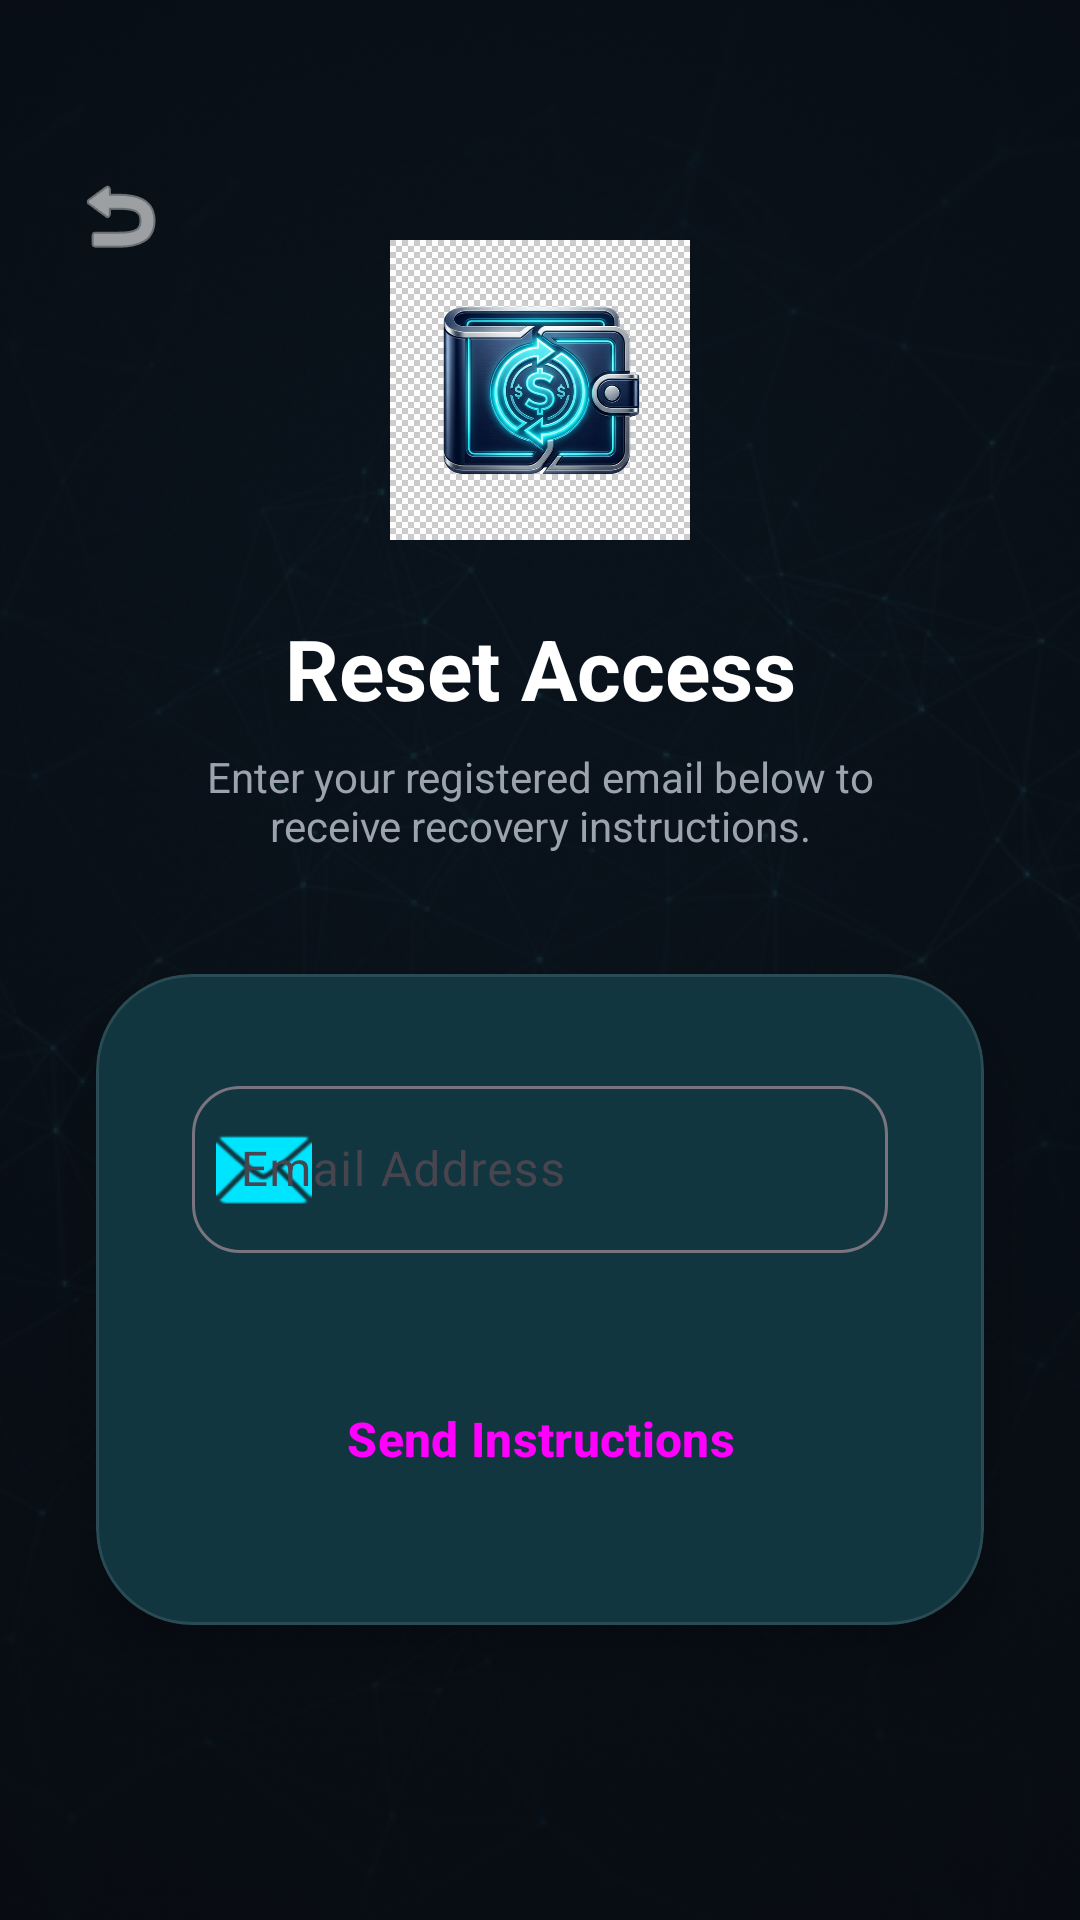

Point at icon controls on the screen. Image size 1080px x 1920px, points as (x,y).
Back: (121,216)
